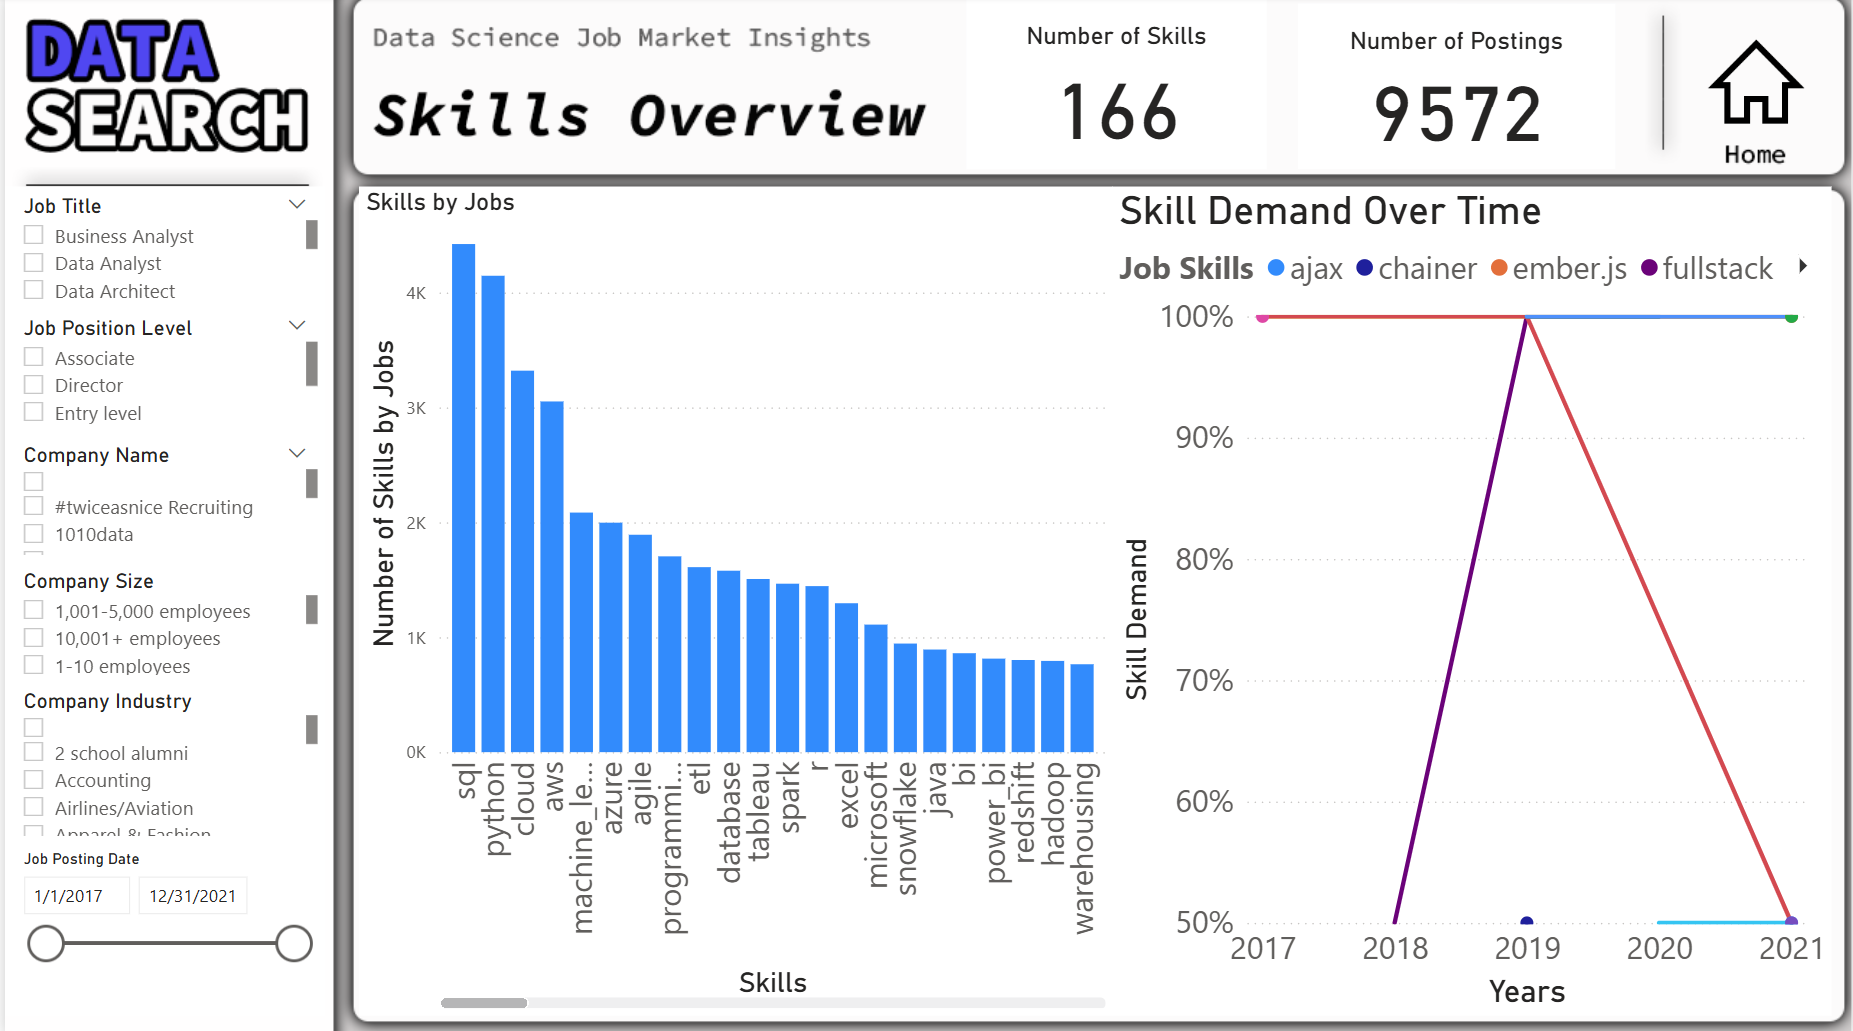

What the dashboard file says about the page in this screenshot:
{"tool":"powerbi","page":{"name":"Skills","canvas":[1280,720],"ordinal":2},"visuals":[{"type":"slicer","fields":{"Values":["Job Postings.Job Title"]},"box":[0,131.8,221.4,84.5],"z":0},{"type":"slicer","fields":{"Values":["Job Postings.Job Position Level"]},"box":[0,216.3,221.4,87.9],"z":1000},{"type":"slicer","fields":{"Values":["Job Postings.Company Name"]},"box":[0,304.2,221.4,87.9],"z":2000},{"type":"slicer","fields":{"Values":["Job Postings.Company Size"]},"box":[0,392.1,221.4,82.8],"z":3000},{"type":"slicer","fields":{"Values":["Job Postings.Company Industry"]},"box":[0,474.9,221.4,111.6],"z":4000},{"type":"slicer","fields":{"Values":["Job Postings.Job Posting Date"]},"box":[0,586.5,221.4,120],"z":5000},{"type":"columnChart","title":"Skills by Jobs","fields":{"Category":["Job Skills.Job Skills"],"Y":["CountNonNull(Job Skills.Job Skills)"]},"box":[245.1,131.8,522.3,574.7],"z":6000},{"type":"lineChart","title":"Skill Demand Over Time","fields":{"Y":["_Measures.% Skill in Posting"],"Category":["Job Postings.Job Posting Date.Variation.Date Hierarchy.Year","Job Postings.Job Posting Date.Variation.Date Hierarchy.Month"],"Series":["Job Skills.Job Skills"]},"box":[767.3,131.8,498.6,574.7],"z":7000},{"type":"card","title":"Number of Skills","fields":{"Values":["_Measures.Skill Count"]},"box":[665.9,0,207.9,120],"z":8000},{"type":"card","title":"Number of Postings","fields":{"Values":["_Measures.Posting Count"]},"box":[895.8,5.1,219.7,114.9],"z":9000},{"type":"image","box":[1174.2,20,77.7,79.9],"z":10000}]}

Visuals, with their boxes in screenshot pixels (x1, y1, x2, y2), scaled from the page's 1280x720 canvas onto the 1853x1031 screenshot:
slicer - Job Postings.Job Title: <region>0, 189, 321, 310</region>
slicer - Job Postings.Job Position Level: <region>0, 310, 321, 436</region>
slicer - Job Postings.Company Name: <region>0, 436, 321, 561</region>
slicer - Job Postings.Company Size: <region>0, 561, 321, 680</region>
slicer - Job Postings.Company Industry: <region>0, 680, 321, 840</region>
slicer - Job Postings.Job Posting Date: <region>0, 840, 321, 1012</region>
"Skills by Jobs" columnChart: <region>355, 189, 1111, 1012</region>
"Skill Demand Over Time" lineChart: <region>1111, 189, 1833, 1012</region>
"Number of Skills" card: <region>964, 0, 1265, 172</region>
"Number of Postings" card: <region>1297, 7, 1615, 172</region>
image: <region>1700, 29, 1812, 143</region>
